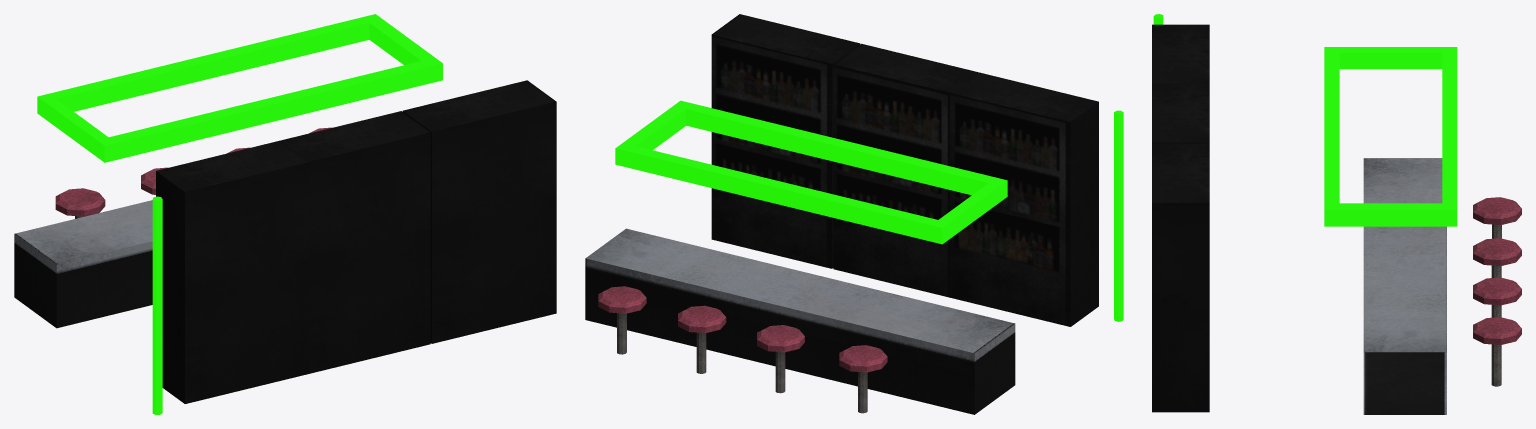
The model's file is bar.glb.
3 renders of one model, left to right at view 1: azimuth 30°, elevation 25°; view 2: azimuth 150°, elevation 25°; view 3: azimuth 270°, elevation 25°, orthographic. The views are drawn at different scales.
Visible parts, largest first — view 1: bar; view 2: bar; view 3: bar.
Part boxes in pixels (left/top/right/bottom): bar: left=14, top=14, right=556, bottom=414; bar: left=585, top=14, right=1123, bottom=414; bar: left=1152, top=14, right=1521, bottom=414.
Size of the model in its own units: 7.02 by 3.56 by 5.56.
Materials: 4 (3 with a texture image).
